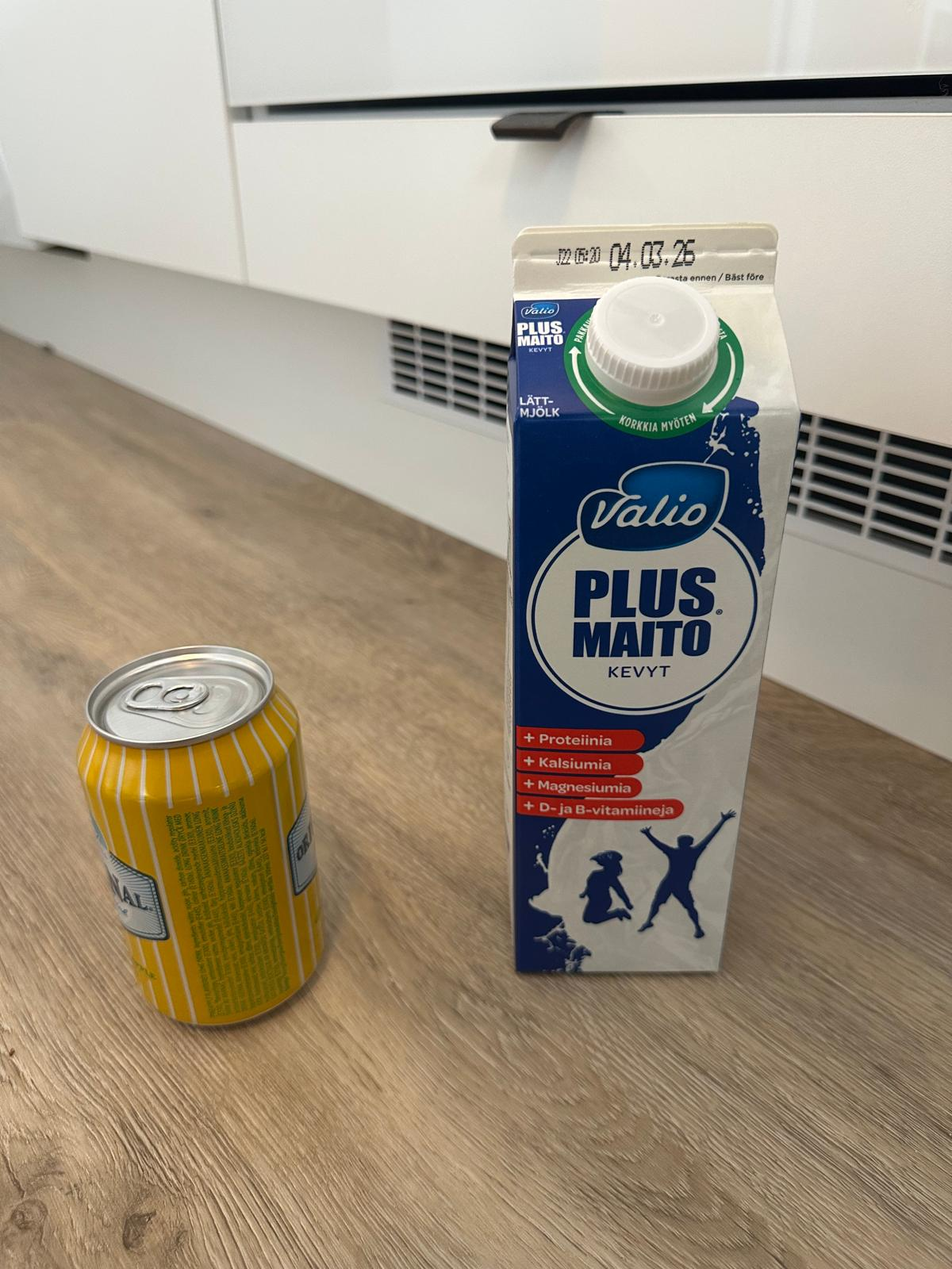Dryckeskartong: (504, 222, 802, 975)
Pantburk: (74, 644, 326, 1027)
